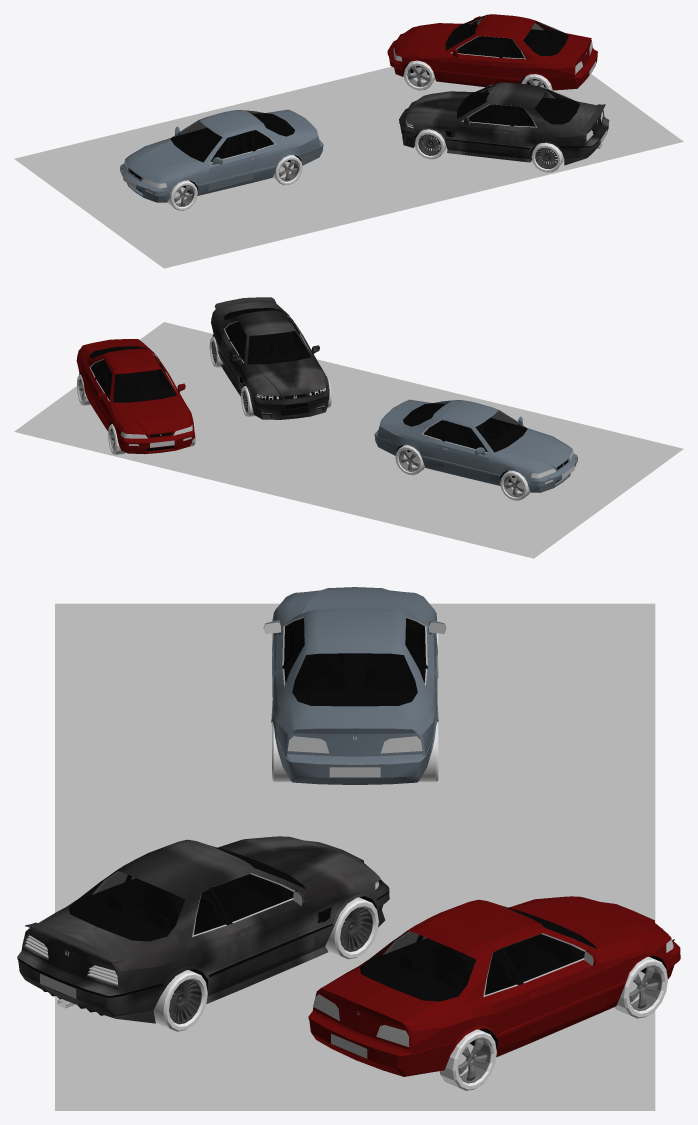
The model's file is legend.fbx.
The picture shows the model from 3 angles, top to bottom: view 1: azimuth 30°, elevation 25°; view 2: azimuth 150°, elevation 25°; view 3: azimuth 270°, elevation 25°; orthographic projection. The views are drawn at different scales.
Visible parts, largest first — view 1: Plane, Legend tuned, Legend, Legend flat, legend interior.002, legend interior.001, legend interior, legend wheels.002, legend rims.002, legend wheels, legend rims, legend wheels.001 (+3 smaller); view 2: Plane, Legend, Legend tuned, Legend flat, legend interior, legend interior.002, legend interior.001, legend front seats.001, legend front seats.002, legend wheels, legend rims, legend front seats (+5 smaller); view 3: Plane, Legend tuned, Legend flat, Legend, legend interior.001, legend interior.002, legend interior, legend wheels.002, legend front seats, legend wheels.001, legend rims.002, legend rims.001 (+7 smaller).
Boxes of the visible parts, x1,y1,x2,y2 form: Plane: (14,66,683,268); Legend tuned: (399,82,609,165); Legend: (120,109,323,202); Legend flat: (387,14,597,90); legend interior.002: (457,92,579,127); legend interior.001: (445,24,568,59); legend interior: (171,113,294,162); legend wheels.002: (414,129,563,172); legend rims.002: (418,134,557,168); legend wheels: (167,154,302,210); legend rims: (174,160,298,206); legend wheels.001: (403,60,552,97); Plane: (14,322,683,558); Legend: (374,399,577,492); Legend tuned: (211,301,329,419); Legend flat: (76,339,195,454); legend interior: (403,403,527,452); legend interior.002: (224,308,310,364); legend interior.001: (90,346,176,402); legend front seats.001: (103,370,161,399); legend front seats.002: (237,332,295,361); legend wheels: (395,445,530,500); legend rims: (398,450,523,497); legend front seats: (449,423,496,448); Plane: (55,603,655,1110); Legend tuned: (17,836,389,1023); Legend flat: (308,896,680,1076); Legend: (271,587,438,784); legend interior.001: (360,910,596,1001); legend interior.002: (69,851,305,941); legend interior: (283,618,426,706); legend wheels.002: (153,897,378,1031); legend front seats: (294,653,415,689); legend wheels.001: (439,956,667,1090); legend rims.002: (169,907,372,1024); legend rims.001: (458,966,662,1083).
Bounding box in the file's own units: 1403 × 151 × 775.
